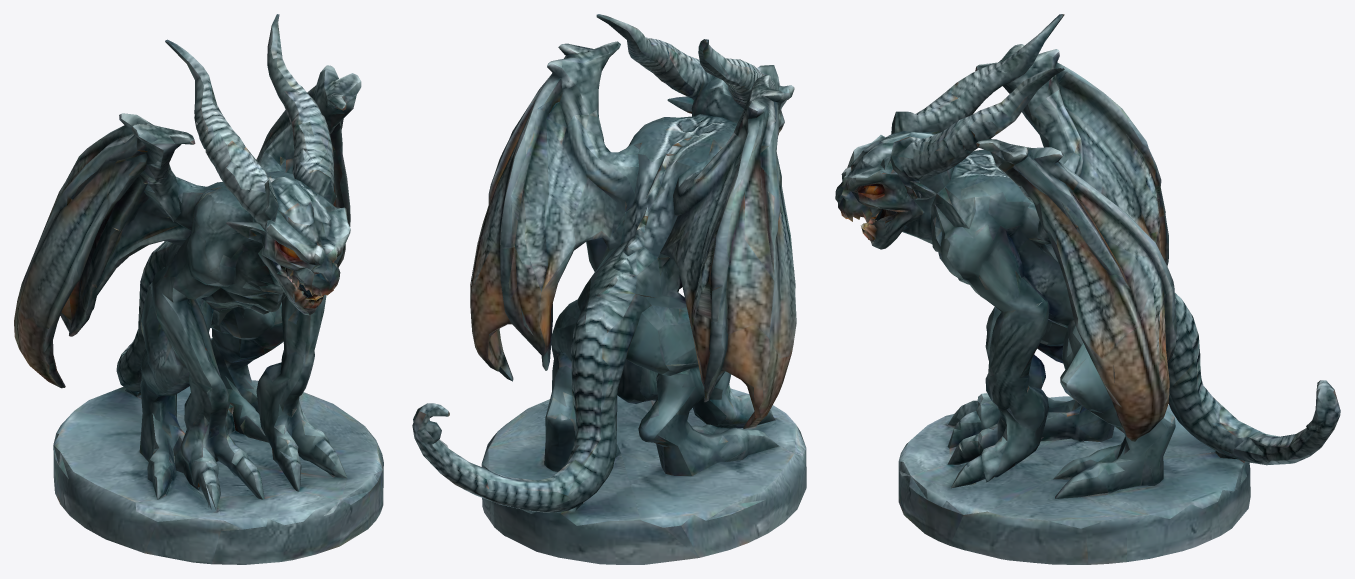
Rendered from boss_stonewrath.glb.
3 renders of one model, left to right at view 1: azimuth 30°, elevation 25°; view 2: azimuth 150°, elevation 25°; view 3: azimuth 270°, elevation 25°, orthographic. The views are drawn at different scales.
Bounding box in the file's own units: 1.33 × 1.9 × 1.9.
Materials: 1 (1 with a texture image).
